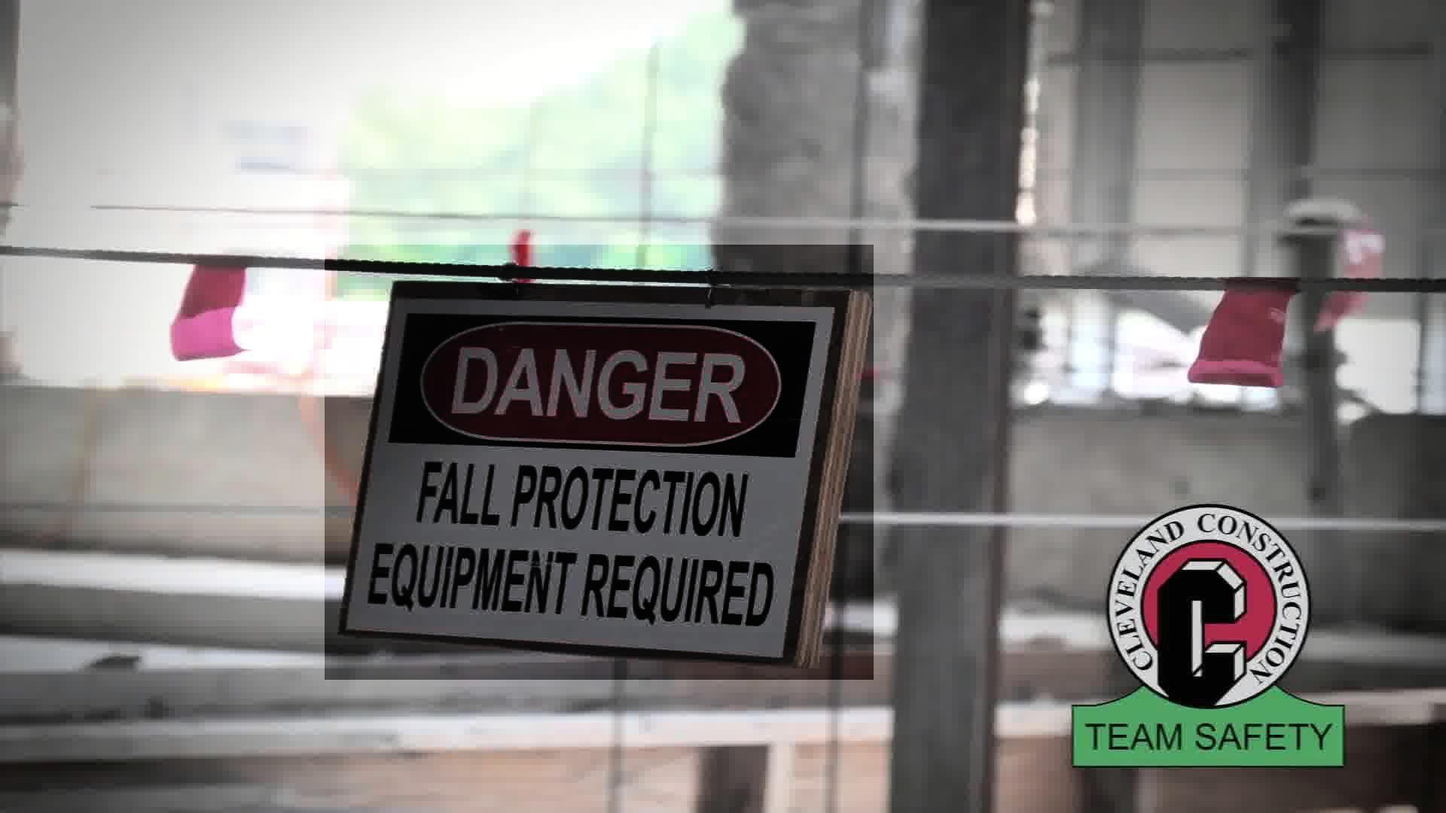safety_signage: (325, 245, 874, 680)
